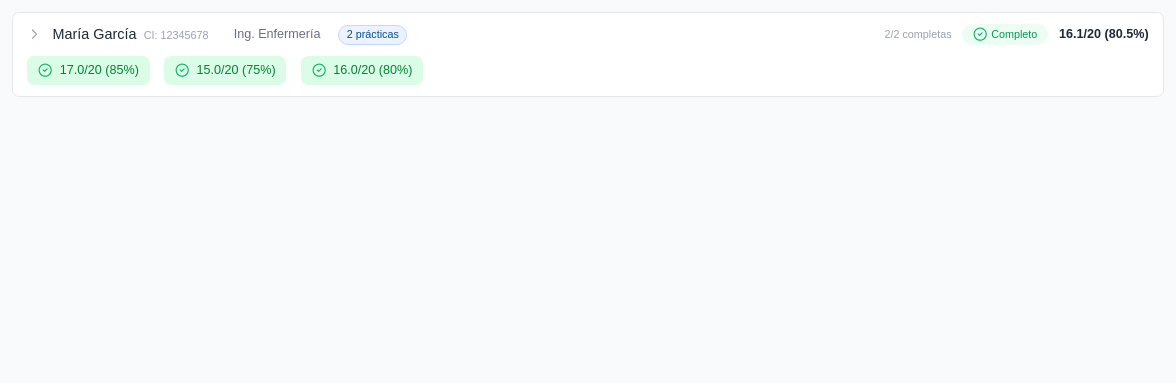
Test case: EvaluationCard — Expanded View › muestra resultado de cada práctica en vista expandida
Click the button with aria-label "expandir".
click(95, 34)  # box x1=13 y1=13 x2=1163 y2=56
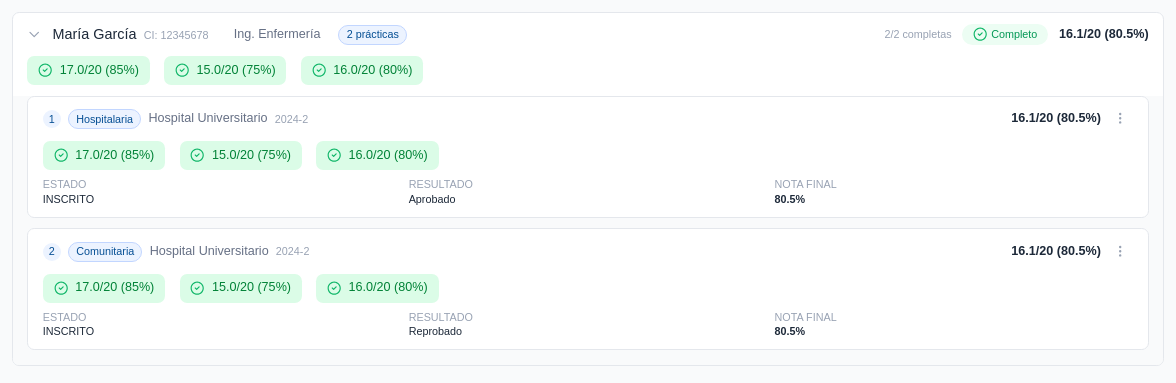
Check: the text "Reprobado" is shown, box x1=409 y1=325 x2=462 y2=337
